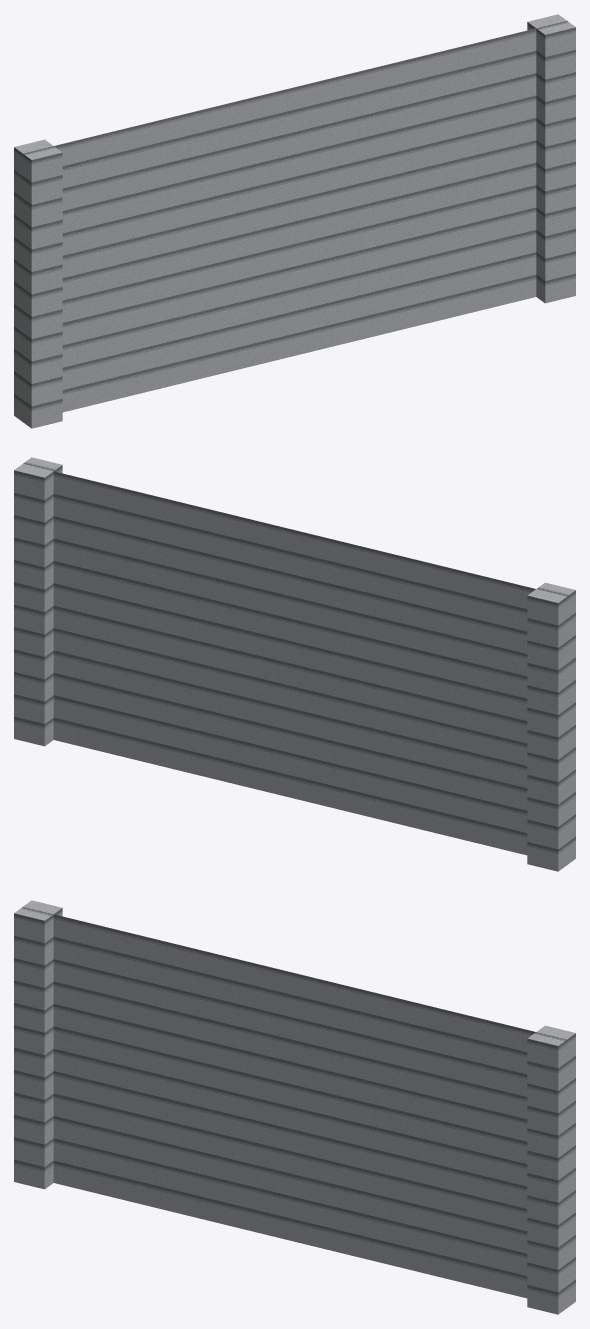
Rendered from fence_corral_livestock.glb.
3 views of the same model, one above another, from view 1: azimuth 30°, elevation 25°; view 2: azimuth 150°, elevation 25°; view 3: azimuth 330°, elevation 25° (orthographic).
Visible parts, largest first — view 1: fence_corral_livestock-col; view 2: fence_corral_livestock-col; view 3: fence_corral_livestock-col.
Part boxes in pixels (left/top/right/bottom): fence_corral_livestock-col: left=14, top=14, right=575, bottom=428; fence_corral_livestock-col: left=14, top=457, right=575, bottom=871; fence_corral_livestock-col: left=14, top=900, right=575, bottom=1314.
Bounding box in the file's own units: 3.18 × 1.5 × 0.18.
1 material, 1 textured.
